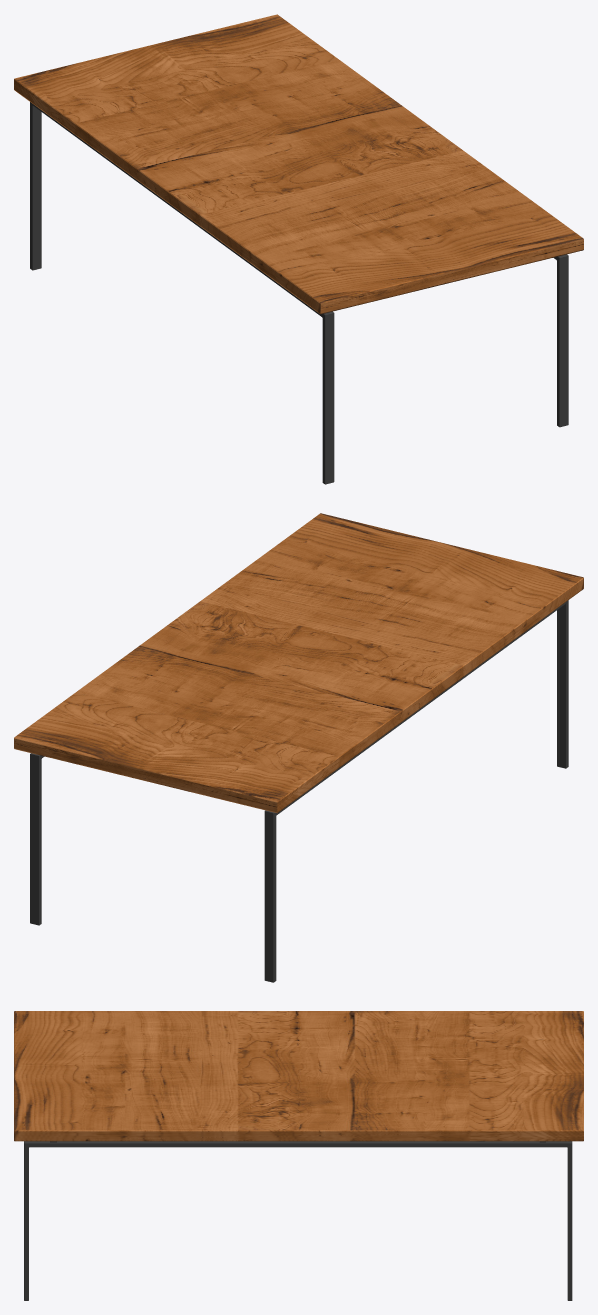
File: Table 4.FBX
The picture shows the model from 3 angles, top to bottom: view 1: azimuth 30°, elevation 25°; view 2: azimuth 150°, elevation 25°; view 3: azimuth 270°, elevation 25°; orthographic projection. The views are drawn at different scales.
Parts seen in each view (by area): view 1: table 4; view 2: table 4; view 3: table 4.
Boxes of the visible parts, x1=… form: table 4: x1=14, y1=14, x2=583, y2=484; table 4: x1=14, y1=513, x2=583, y2=982; table 4: x1=14, y1=1011, x2=583, y2=1300.
Size of the model in its own units: 111 by 75.52 by 223.
Materials: 2 (1 with a texture image).
